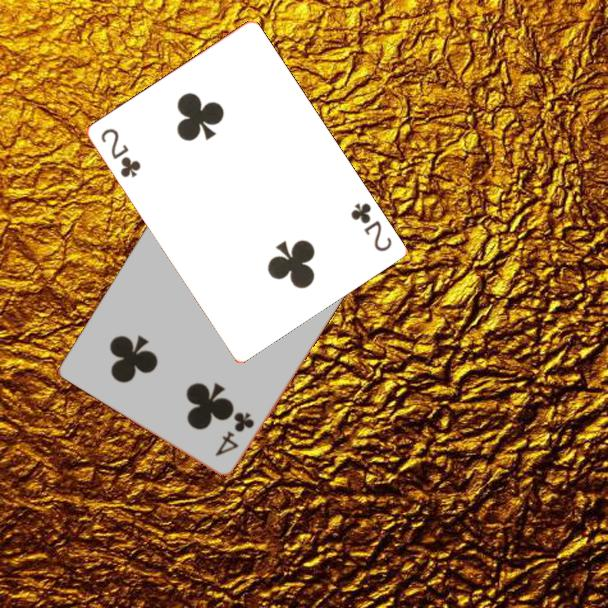c02: (346, 199, 395, 255), (97, 125, 144, 181)
c04: (211, 408, 257, 459)
